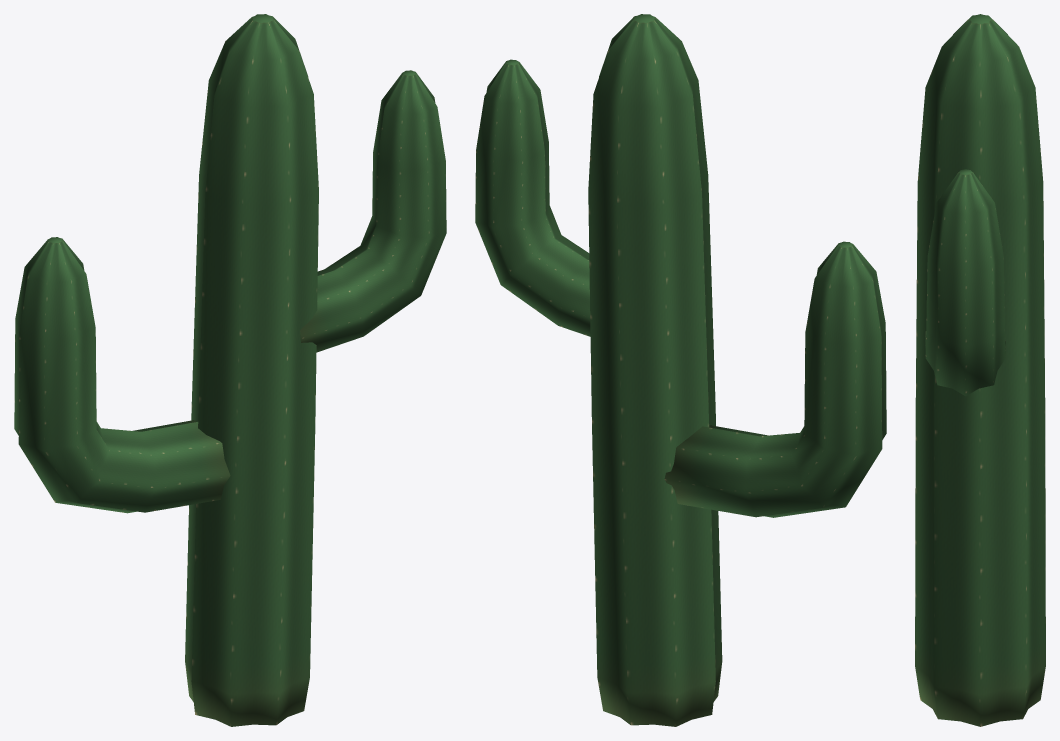
File: Cactus Forked.fbx
3 views of the same model, side by side, from view 1: azimuth 30°, elevation 25°; view 2: azimuth 150°, elevation 25°; view 3: azimuth 270°, elevation 25° (orthographic).
Visible parts, largest first — view 1: Cactus Forked; view 2: Cactus Forked; view 3: Cactus Forked.
Part boxes in pixels (box(x1,y1,x2,y2)): Cactus Forked: box(14, 14, 446, 726); Cactus Forked: box(475, 14, 886, 726); Cactus Forked: box(915, 14, 1045, 726).
Size of the model in its own units: 114 by 180 by 31.
